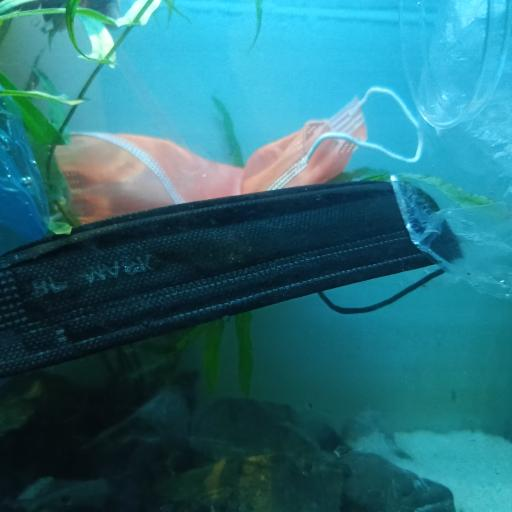mask: (0, 174, 463, 383), (48, 88, 428, 228)
plastic_bag: (396, 0, 512, 299), (0, 84, 52, 254)
plastic_cup: (395, 0, 512, 131)
